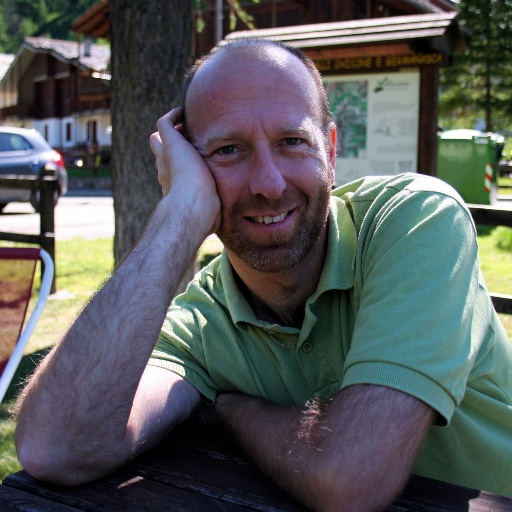hand: (139, 95, 218, 258)
